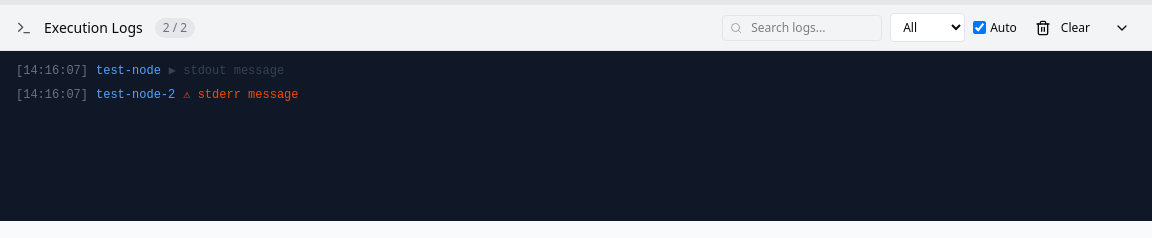
Test case: ExecutionLogPanel › should filter logs by type
Step 1. Select "stdout" in the dropdown → (928, 28), box [890,13,965,42]
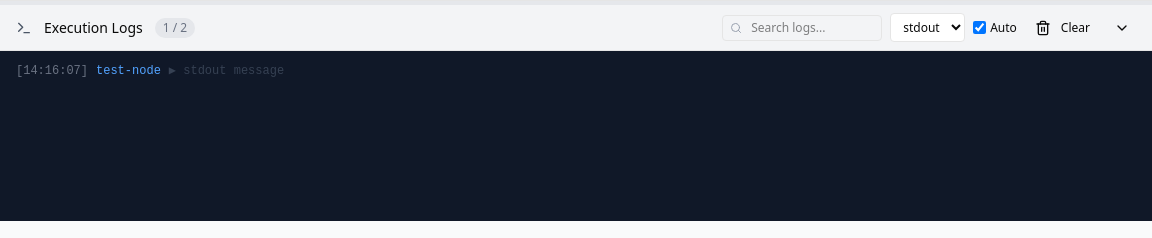
Expected: the text "▶ stdout message" is shown, [169,64,284,78]
Expected: the text "stderr message" is gone
